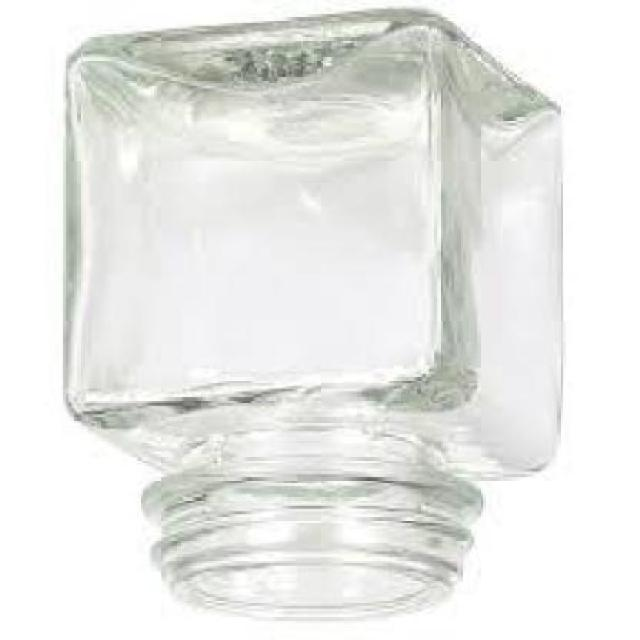GLASS: (66, 14, 568, 623)
